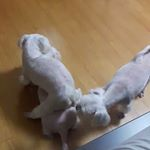puppy: (75, 42, 150, 128), (15, 31, 81, 121)
